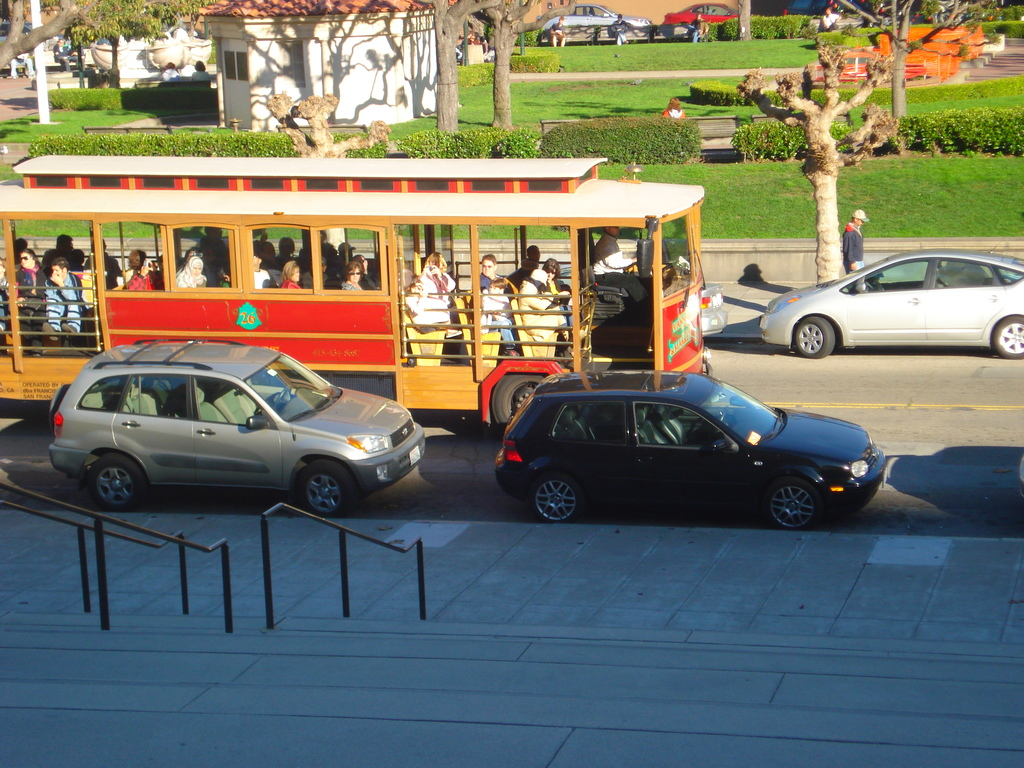Car: (41, 334, 426, 519), (490, 366, 885, 531), (758, 242, 1023, 359), (551, 263, 728, 336), (533, 3, 651, 31), (0, 20, 71, 49), (663, 1, 736, 24), (785, 0, 867, 14), (880, 0, 925, 16)
